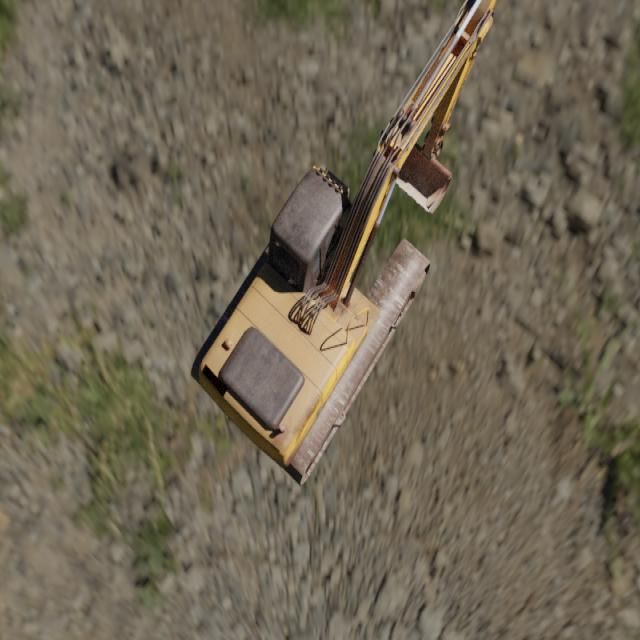excavator: (190, 0, 496, 488)
